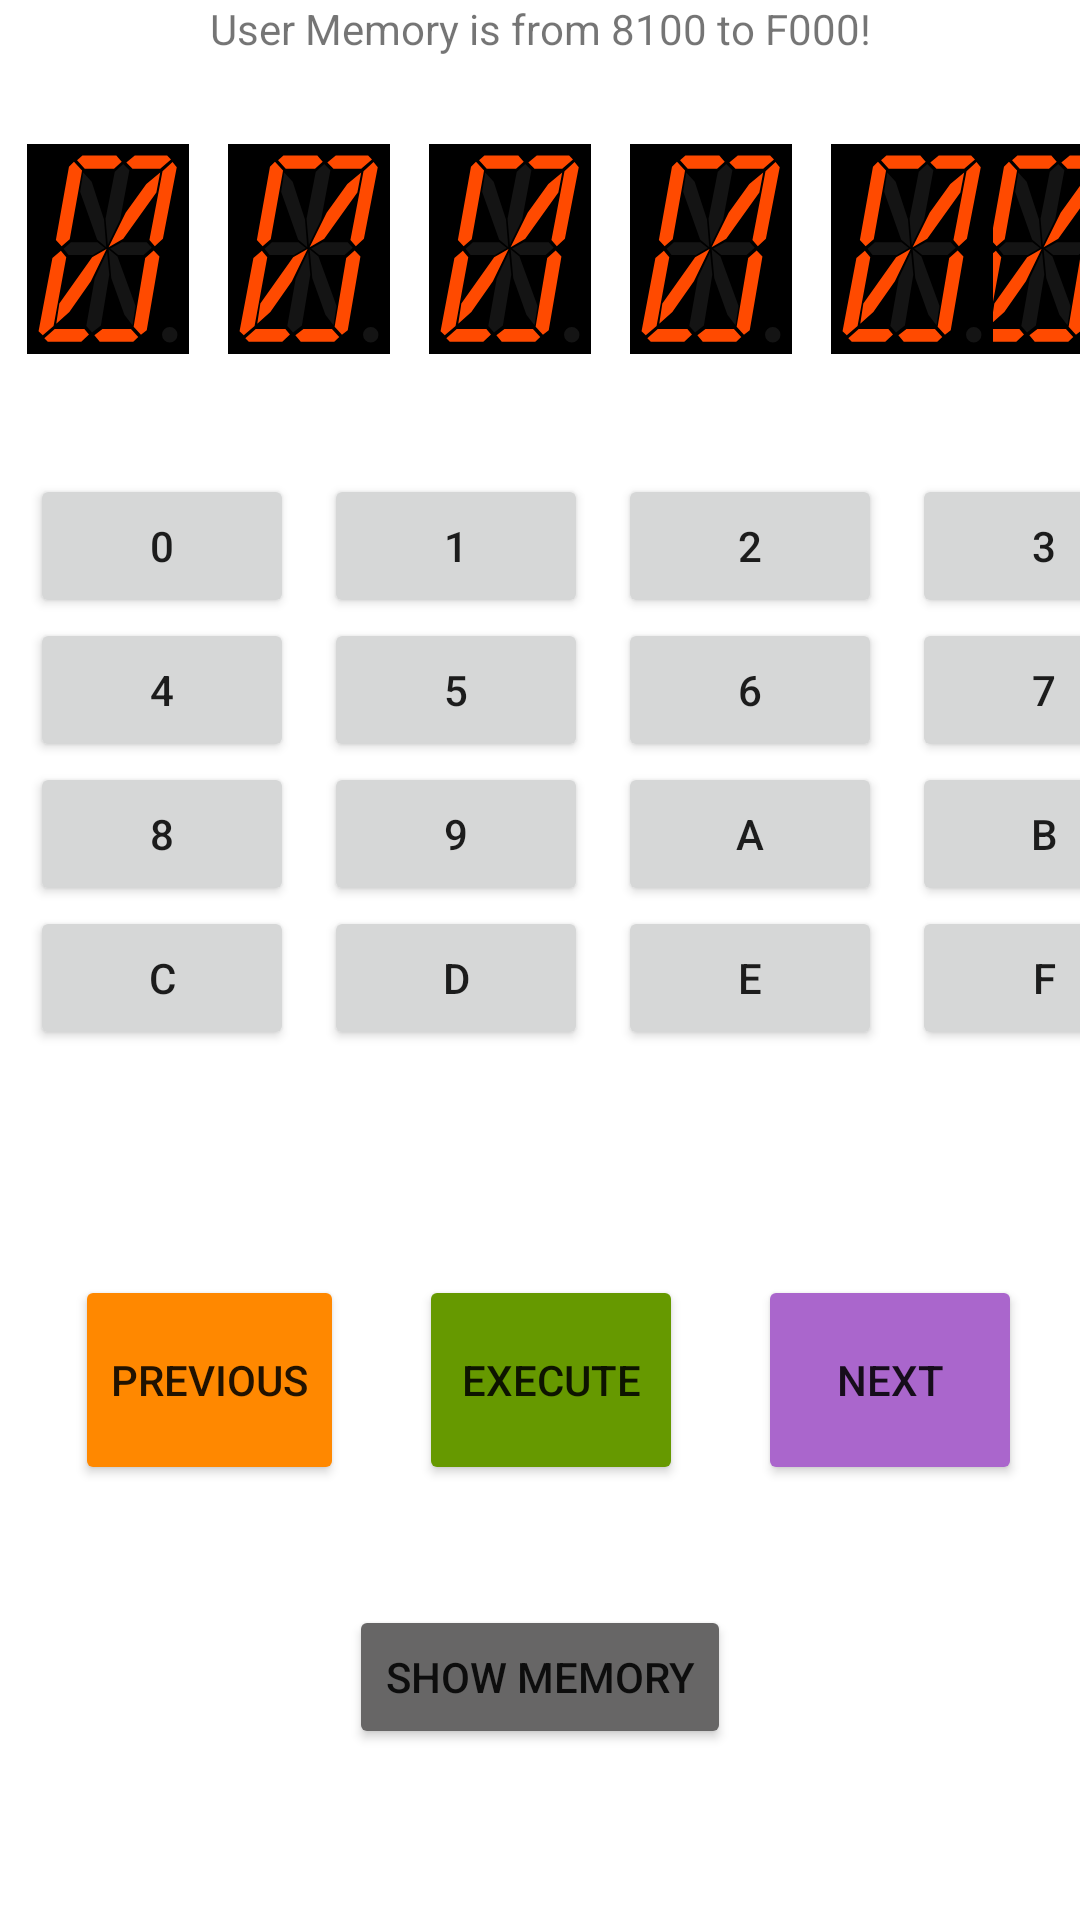

Where icons sit on this 1080px x 1920px app screen, as box(x1, y1, x2, y2):
16segment: box(27, 144, 189, 354), box(228, 144, 390, 354), box(429, 144, 591, 354), box(630, 144, 792, 354)
